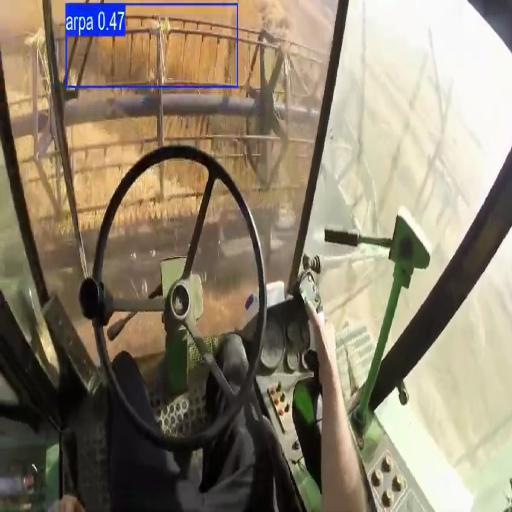arpa: (166, 34, 235, 81), (239, 0, 307, 41), (68, 117, 155, 142), (161, 7, 235, 21), (133, 34, 147, 78), (116, 36, 130, 76), (95, 40, 110, 66), (238, 45, 248, 81), (127, 7, 158, 14), (149, 40, 155, 76)
